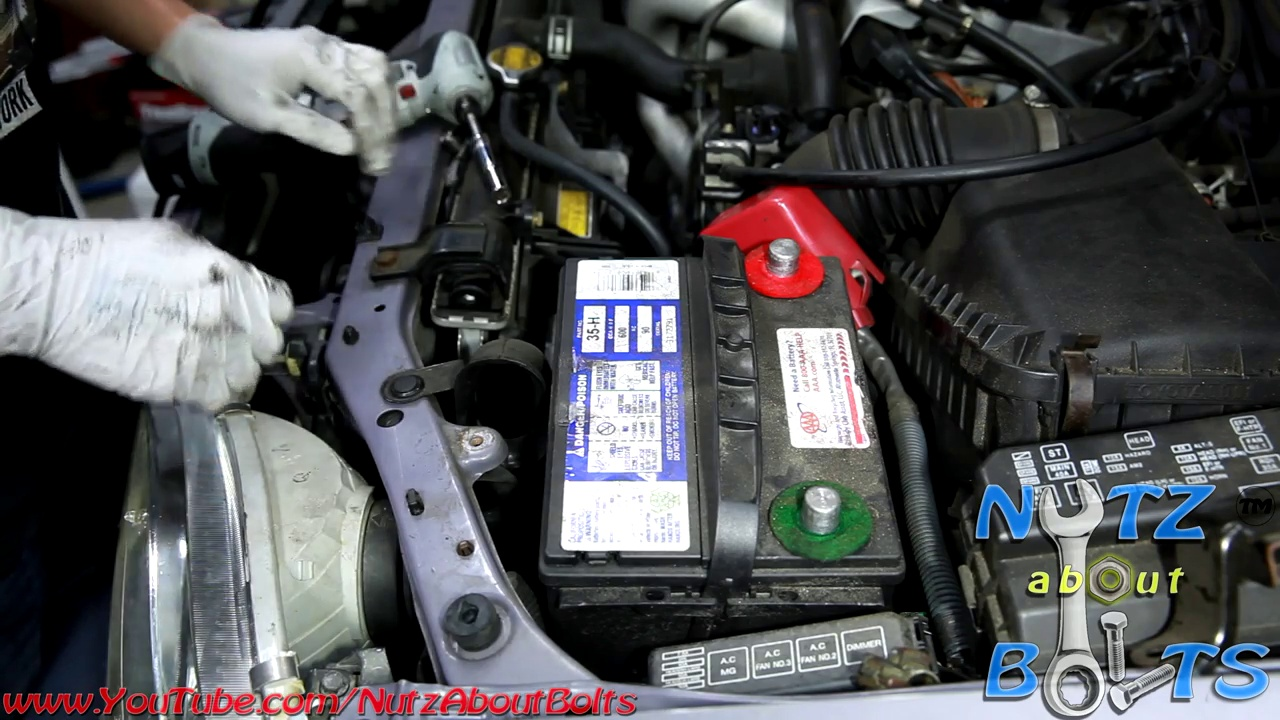battery: (550, 215, 907, 579)
neg_disconnected: (765, 467, 874, 562)
pos_disconnected: (731, 193, 866, 313)
